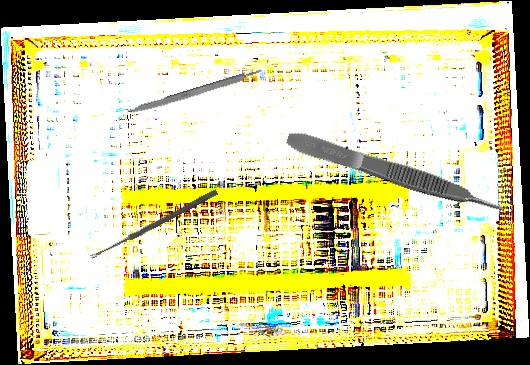Scalpel Handle: (125, 67, 266, 118)
Surgical Spoon: (89, 188, 219, 261)
Tissue Forceps: (284, 125, 507, 223)
